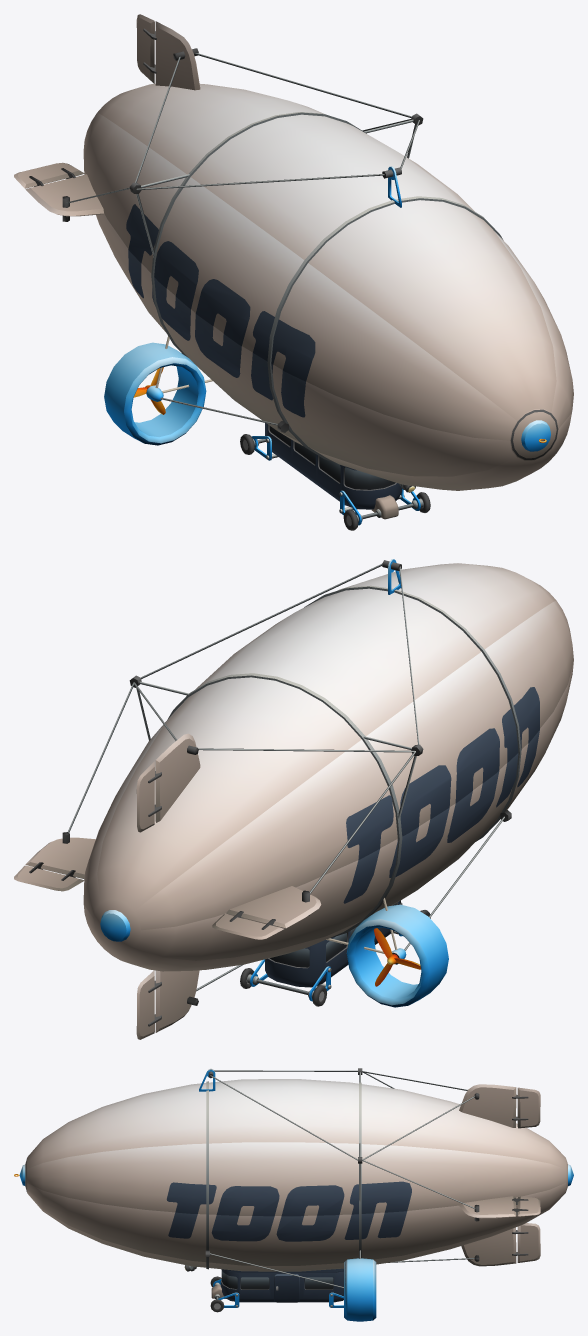
Rendered from Blimp_1A.fbx.
3 views of the same model, one above another, from view 1: azimuth 30°, elevation 25°; view 2: azimuth 150°, elevation 25°; view 3: azimuth 270°, elevation 25° (orthographic). The views are drawn at different scales.
Visible parts, largest first — view 1: Blimp_1A, Livery_1A, Rudder_1A_T, Elevator_1A_R; view 2: Blimp_1A, Livery_1A, Rudder_1A_B, Rudder_1A_T, Elevator_1A_R, Elevator_1A_L, Propeller_1A_R; view 3: Blimp_1A, Livery_1A, Rudder_1A_T, Rudder_1A_B, Elevator_1A_L.
Boxes of the visible parts, <box> form: Blimp_1A: <box>25,21,573,525</box>; Livery_1A: <box>126,204,315,417</box>; Rudder_1A_T: <box>136,14,156,83</box>; Elevator_1A_R: <box>14,162,84,188</box>; Blimp_1A: <box>25,559,573,1032</box>; Livery_1A: <box>343,687,539,903</box>; Rudder_1A_B: <box>136,970,161,1039</box>; Rudder_1A_T: <box>136,761,161,832</box>; Elevator_1A_R: <box>212,911,283,939</box>; Elevator_1A_L: <box>14,862,84,891</box>; Propeller_1A_R: <box>374,928,420,986</box>; Blimp_1A: <box>14,1068,573,1321</box>; Livery_1A: <box>166,1181,411,1241</box>; Rudder_1A_T: <box>512,1087,540,1128</box>; Rudder_1A_B: <box>512,1223,540,1262</box>; Elevator_1A_L: <box>512,1196,540,1216</box>.
Size of the model in its own units: 11.43 by 11.9 by 26.14.
